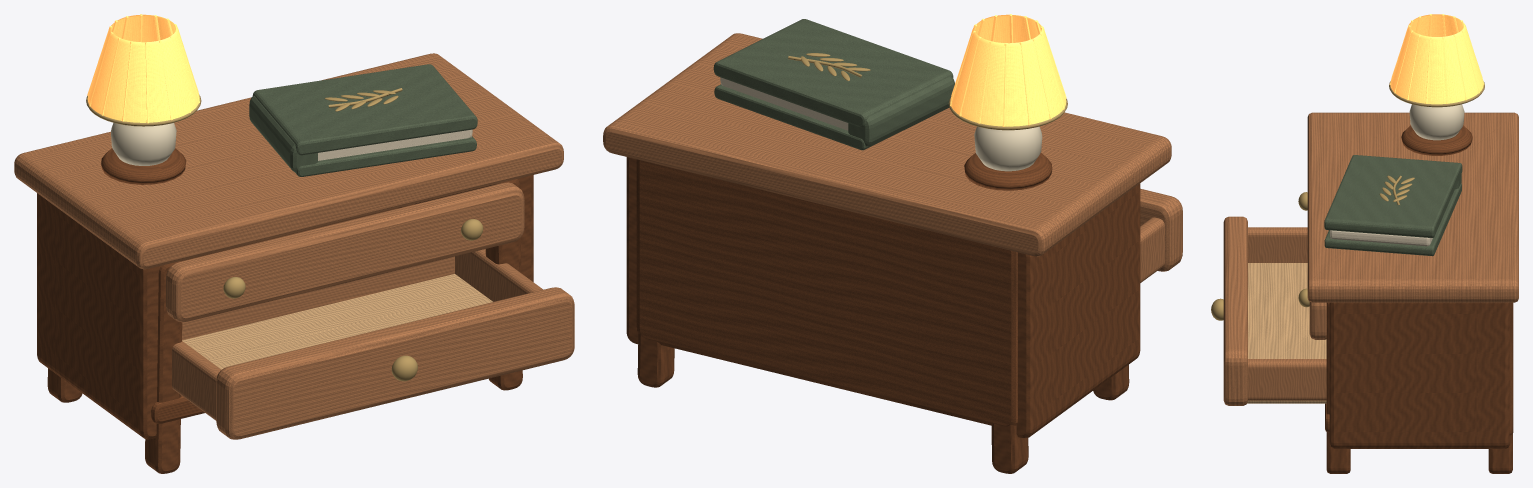
Rendered from dresser.glb.
3 views of the same model, side by side, from view 1: azimuth 30°, elevation 25°; view 2: azimuth 150°, elevation 25°; view 3: azimuth 270°, elevation 25° (orthographic). The views are drawn at different scales.
Parts seen in each view (by area): view 1: dresser, drawer, memory_book, lamp; view 2: dresser, memory_book, lamp, drawer; view 3: dresser, drawer, memory_book, lamp.
Boxes of the visible parts, box(x1,y1,x2,y2) form: dresser: box(14, 53, 563, 473); drawer: box(172, 249, 574, 439); memory_book: box(249, 64, 477, 176); lamp: box(86, 14, 201, 184); dresser: box(603, 33, 1171, 473); memory_book: box(713, 19, 954, 150); lamp: box(948, 14, 1067, 190); drawer: box(1140, 188, 1182, 282); dresser: box(1298, 112, 1518, 473); drawer: box(1211, 216, 1326, 405); memory_book: box(1324, 155, 1462, 256); lamp: box(1389, 14, 1484, 155).
Bounding box in the file's own units: 1.42 × 1.23 × 1.06.
9 materials, 6 textured.
